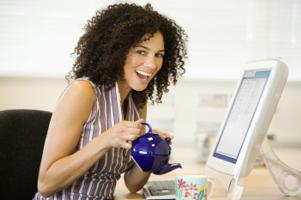person: (33, 3, 185, 199)
